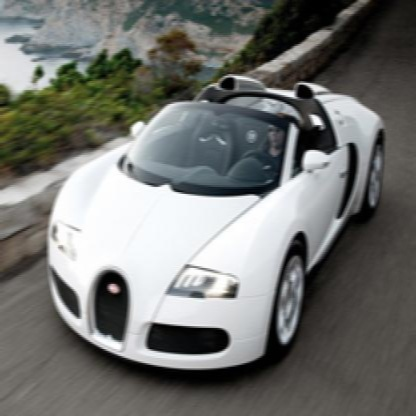Vehicle: (45, 76, 384, 363)
